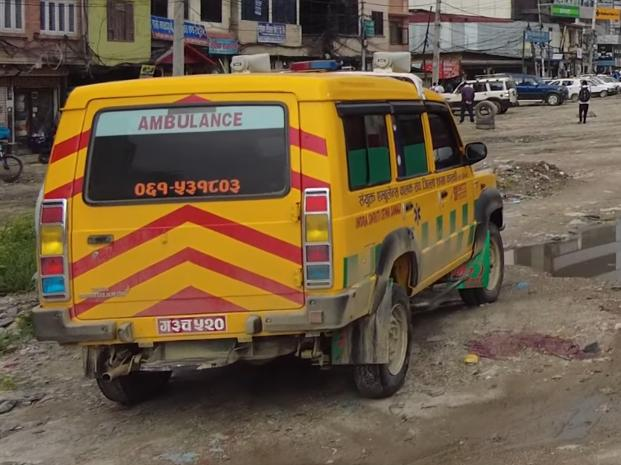SUV: (441, 75, 518, 117)
ambulance: (28, 62, 513, 408)
